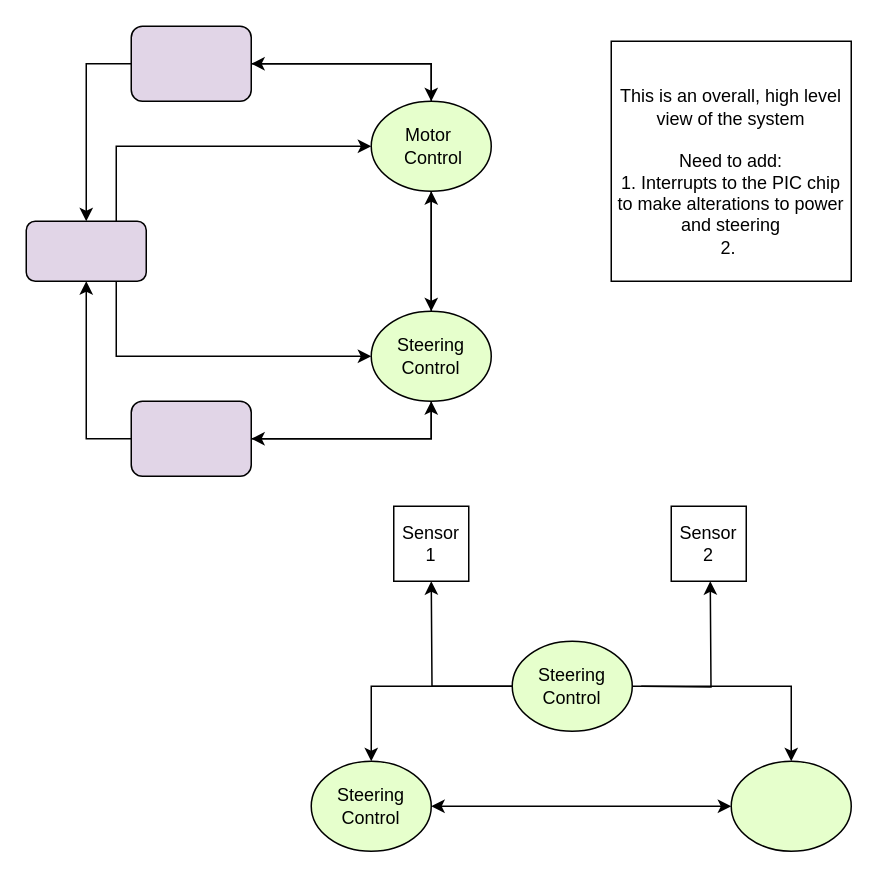
Image size: 878x878. Some labels were removed from this diagram. The shapes that lost their labels are listed below. From the top down, each one's box as (x1, y1, x2, y2) in pixels, then its label:
(130, 25, 251, 101): Motor + Steering system
(25, 220, 146, 281): PIC chip
(130, 400, 251, 476): Sensor Subsystem
(730, 760, 851, 851): Drive Control
